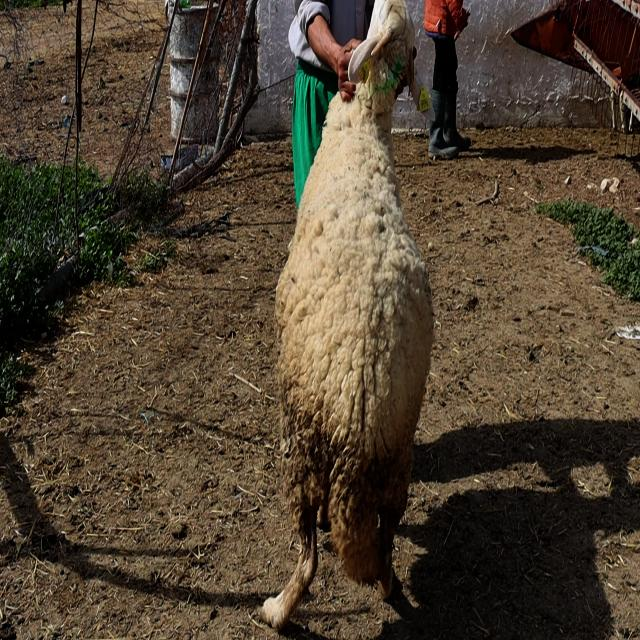Score_3: (260, 0, 435, 631)
